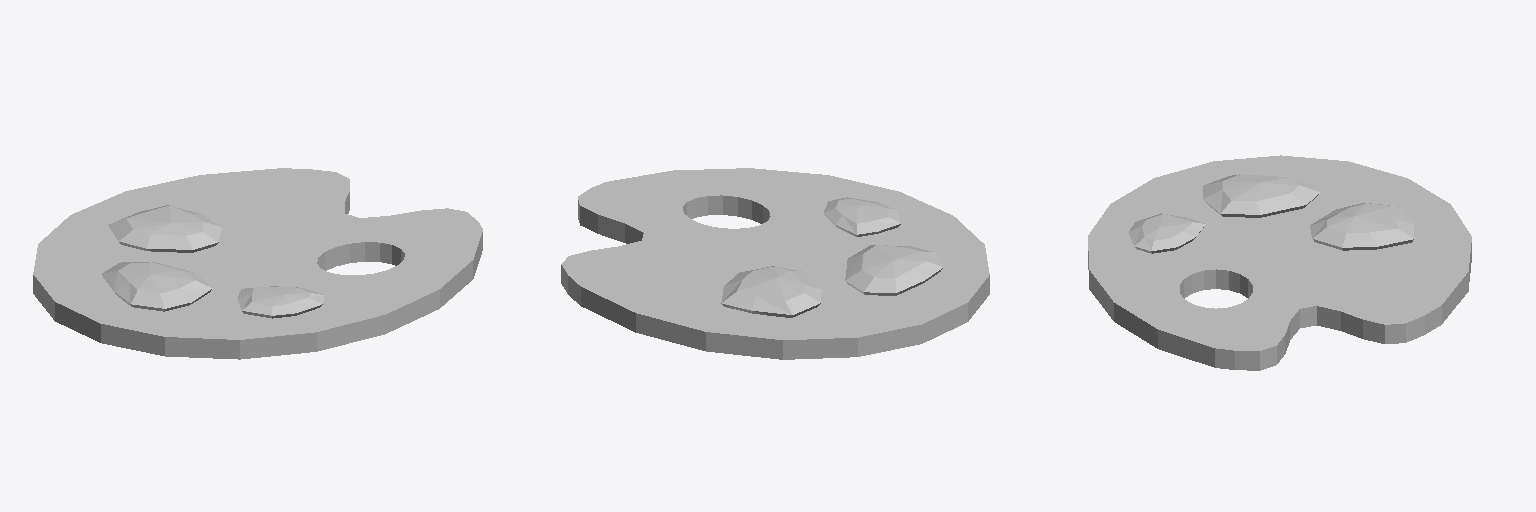
The model's file is color.obj.
3 renders of one model, left to right at view 1: azimuth 30°, elevation 25°; view 2: azimuth 150°, elevation 25°; view 3: azimuth 270°, elevation 25°, orthographic.
Parts seen in each view (by area): view 1: Cylinder001; view 2: Cylinder001; view 3: Cylinder001.
Part boxes in pixels (x1,y1,x2,y2): Cylinder001: (33, 168, 482, 359); Cylinder001: (561, 168, 989, 359); Cylinder001: (1088, 155, 1471, 370).
Bounding box in the file's own units: 368 × 29.61 × 306.